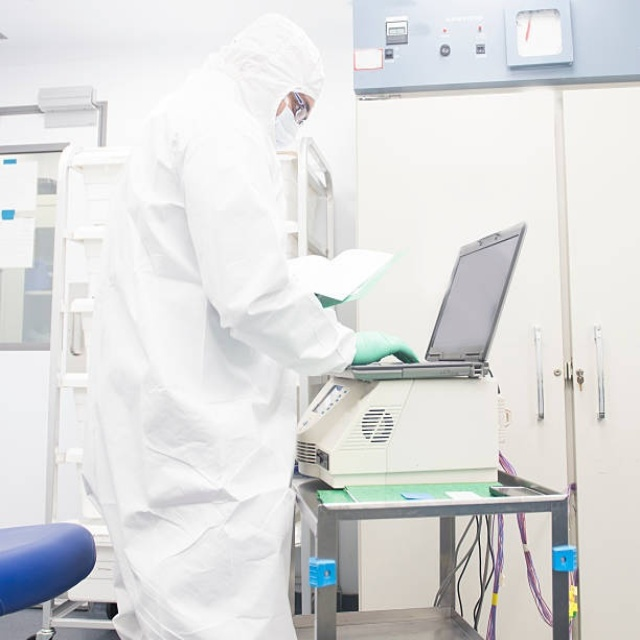Gafas: (292, 92, 308, 126)
Guantes: (352, 330, 420, 366)
Mascara: (273, 95, 305, 150)
